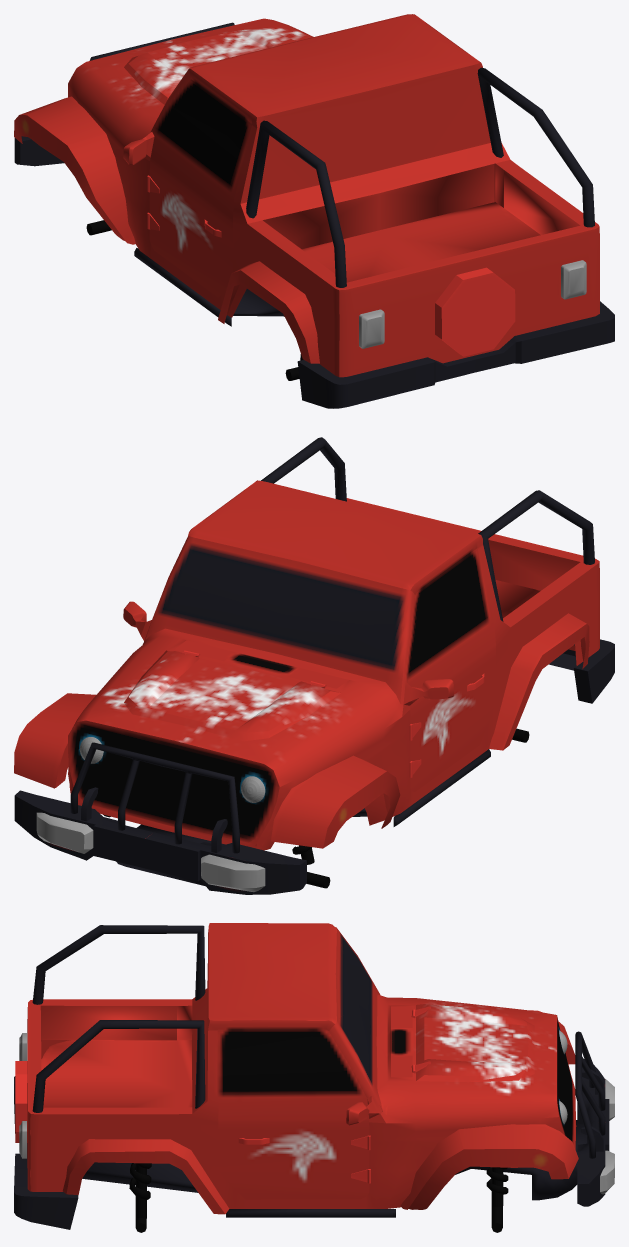
Rendered from TJeep.fbx.
The picture shows the model from 3 angles, top to bottom: view 1: azimuth 30°, elevation 25°; view 2: azimuth 150°, elevation 25°; view 3: azimuth 270°, elevation 25°; orthographic projection. The views are drawn at different scales.
Visible parts, largest first — view 1: top.003, back_light.003; view 2: top.003, front_light.002, front_light.001; view 3: top.003, front_light.002, back_light.003.
Boxes of the visible parts, x1,y1,x2,y2 form: top.003: (14, 14, 614, 408); back_light.003: (359, 260, 586, 348); top.003: (14, 437, 614, 894); front_light.002: (36, 812, 265, 892); front_light.001: (79, 737, 265, 802); top.003: (14, 923, 609, 1232); front_light.002: (600, 1079, 614, 1194); back_light.003: (19, 1033, 26, 1158).
Size of the model in its own units: 264 by 183 by 472.
